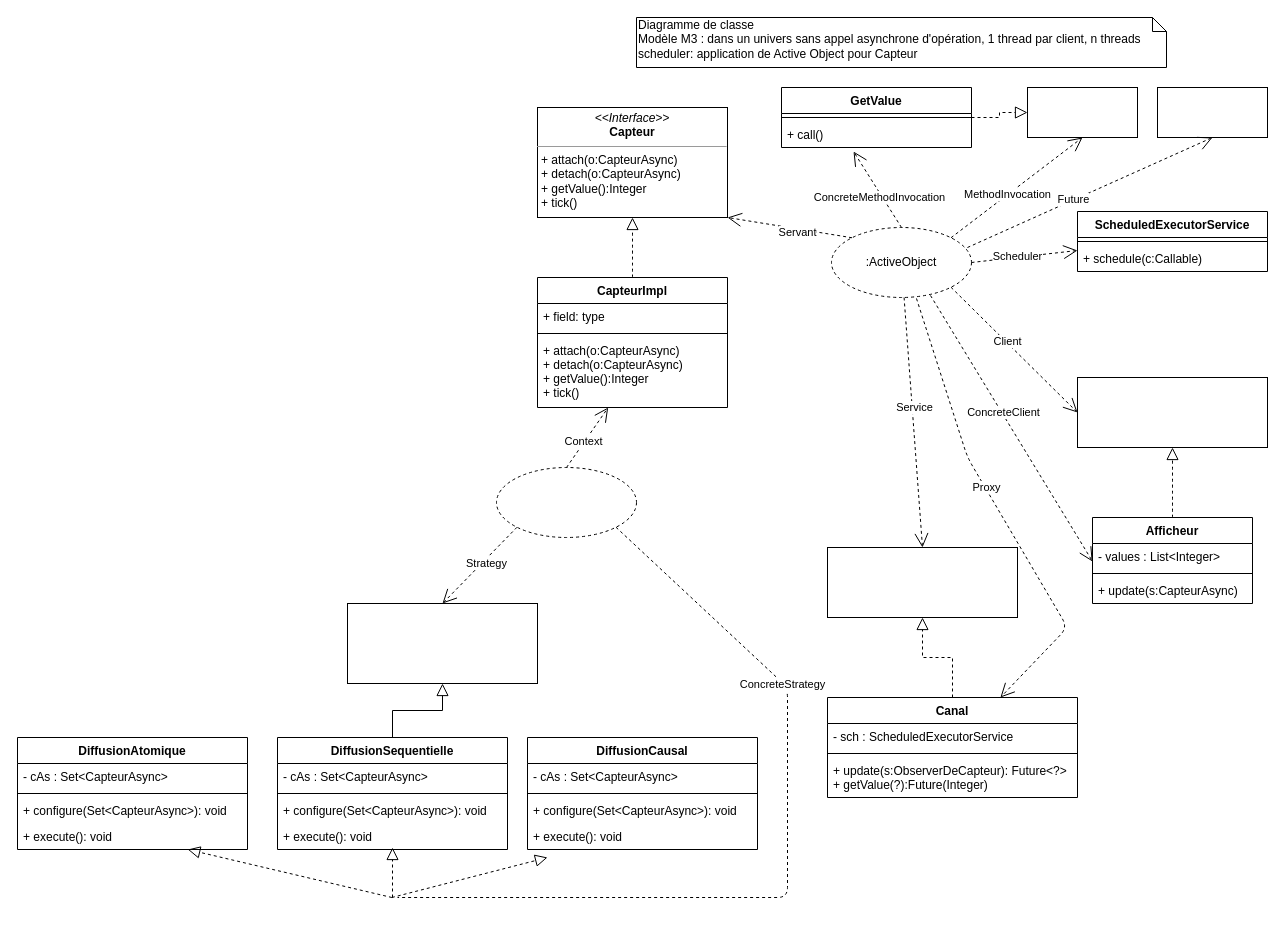
This 1285x927 diagram has some shape labels left out. Here are the shapes that lost their labels. From the top down, the centre of each, then its label:
At pixel 1082 112: "«interface» Callable<V>".
At pixel 1212 112: "«interface» Future<Integer>".
At pixel 1172 412: "<<Interface>> ObserverDeCapteur + update(s:Capteur)".
At pixel 566 502: ":Strategy".
At pixel 922 582: "<<Interface>> CapteurAsync + getValue(?): Future(Integer)".
At pixel 442 643: "<<Interface>> AlgoDiffusion + configure(Set<CapteurAsync>) + execute()".
